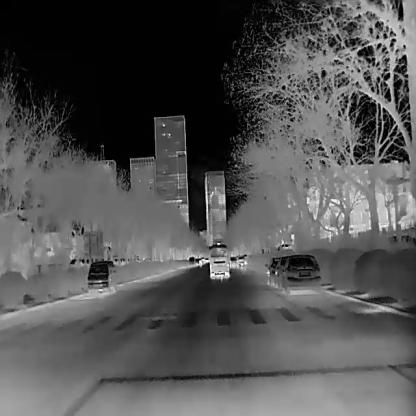bus: (207, 241, 229, 279)
car: (276, 254, 320, 294), (86, 260, 116, 292), (272, 254, 288, 286), (264, 256, 276, 284), (228, 255, 237, 267), (186, 255, 194, 266)
